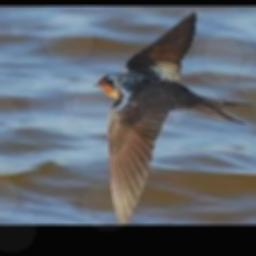Swallow: (93, 12, 251, 224)
